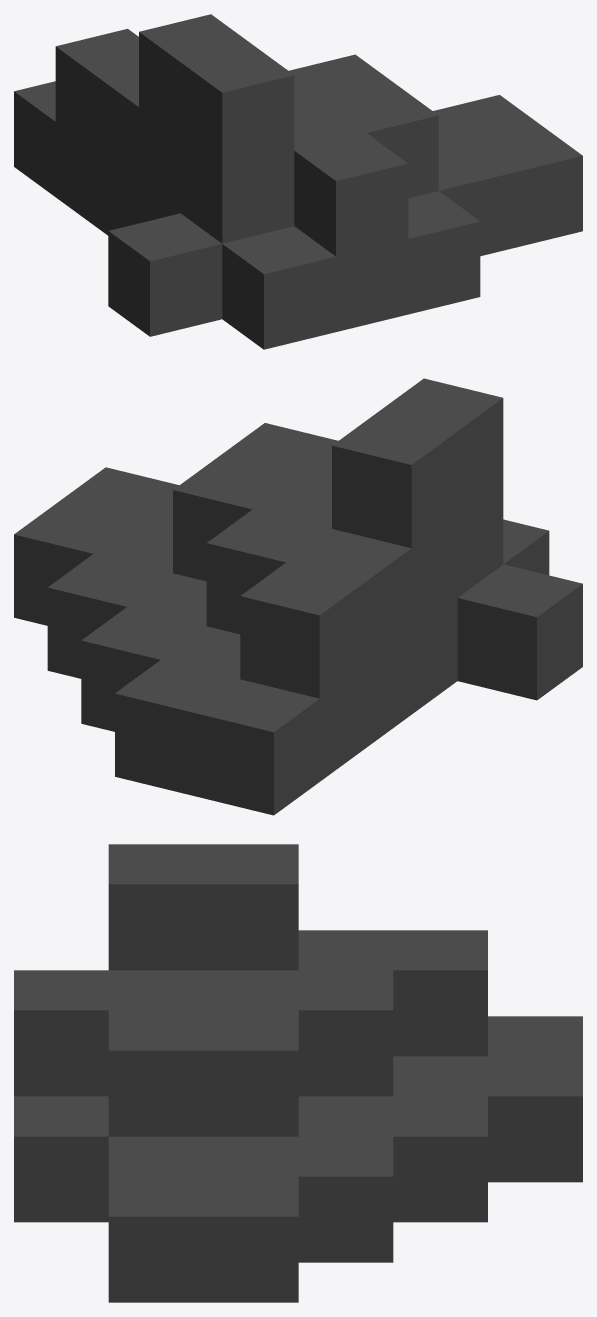
File: Rocks-0.obj
The picture shows the model from 3 angles, top to bottom: view 1: azimuth 30°, elevation 25°; view 2: azimuth 150°, elevation 25°; view 3: azimuth 270°, elevation 25°; orthographic projection. The views are drawn at different scales.
Bounding box in the file's own units: 0.6 × 0.3 × 0.6.
Materials: 1 (1 with a texture image).
